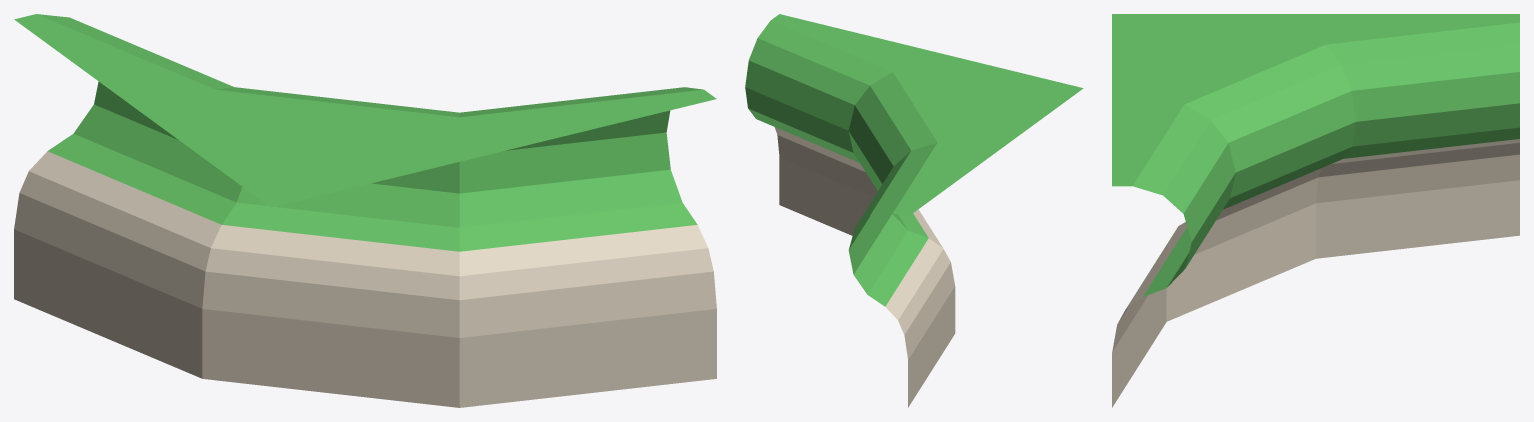
The model's file is Escarpment_Terrain_Corner_Inner_2x2_Top.glb.
3 views of the same model, side by side, from view 1: azimuth 30°, elevation 25°; view 2: azimuth 150°, elevation 25°; view 3: azimuth 270°, elevation 25° (orthographic). The views are drawn at different scales.
Visible parts, largest first — view 1: Escarpment_Terrain_Corner_Inner_2x2_Top; view 2: Escarpment_Terrain_Corner_Inner_2x2_Top; view 3: Escarpment_Terrain_Corner_Inner_2x2_Top.
Part boxes in pixels (x1,y1,x2,y2): Escarpment_Terrain_Corner_Inner_2x2_Top: [14, 14, 716, 407]; Escarpment_Terrain_Corner_Inner_2x2_Top: [745, 14, 1083, 407]; Escarpment_Terrain_Corner_Inner_2x2_Top: [1112, 14, 1519, 407].
Bounding box in the file's own units: 1.06 × 0.636 × 1.06.
